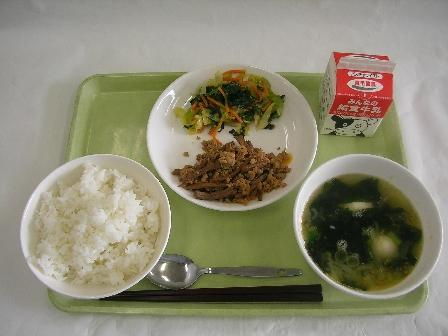Milk: (319, 42, 406, 145)
Rice: (19, 163, 161, 292)
Soups: (292, 157, 437, 294)
cooked food based on meat: (172, 133, 292, 207)
salad with sauce: (170, 69, 287, 138)
